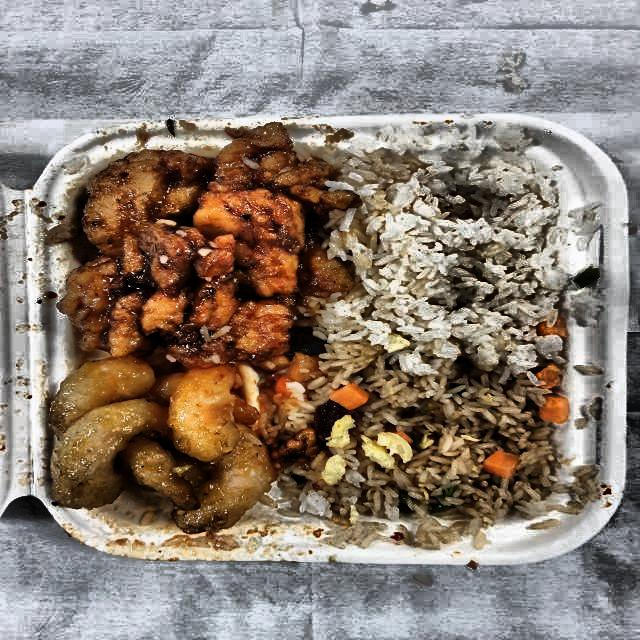Food: (46, 126, 352, 374), (331, 134, 592, 358), (306, 348, 594, 546), (42, 351, 288, 544)
